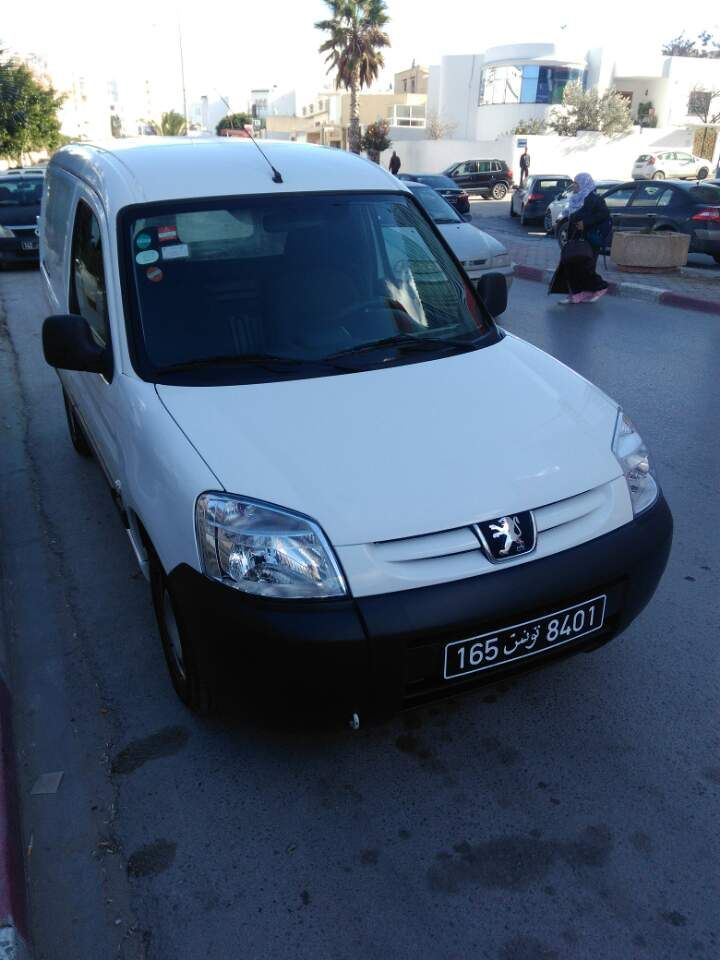LP: (443, 592, 603, 680)
